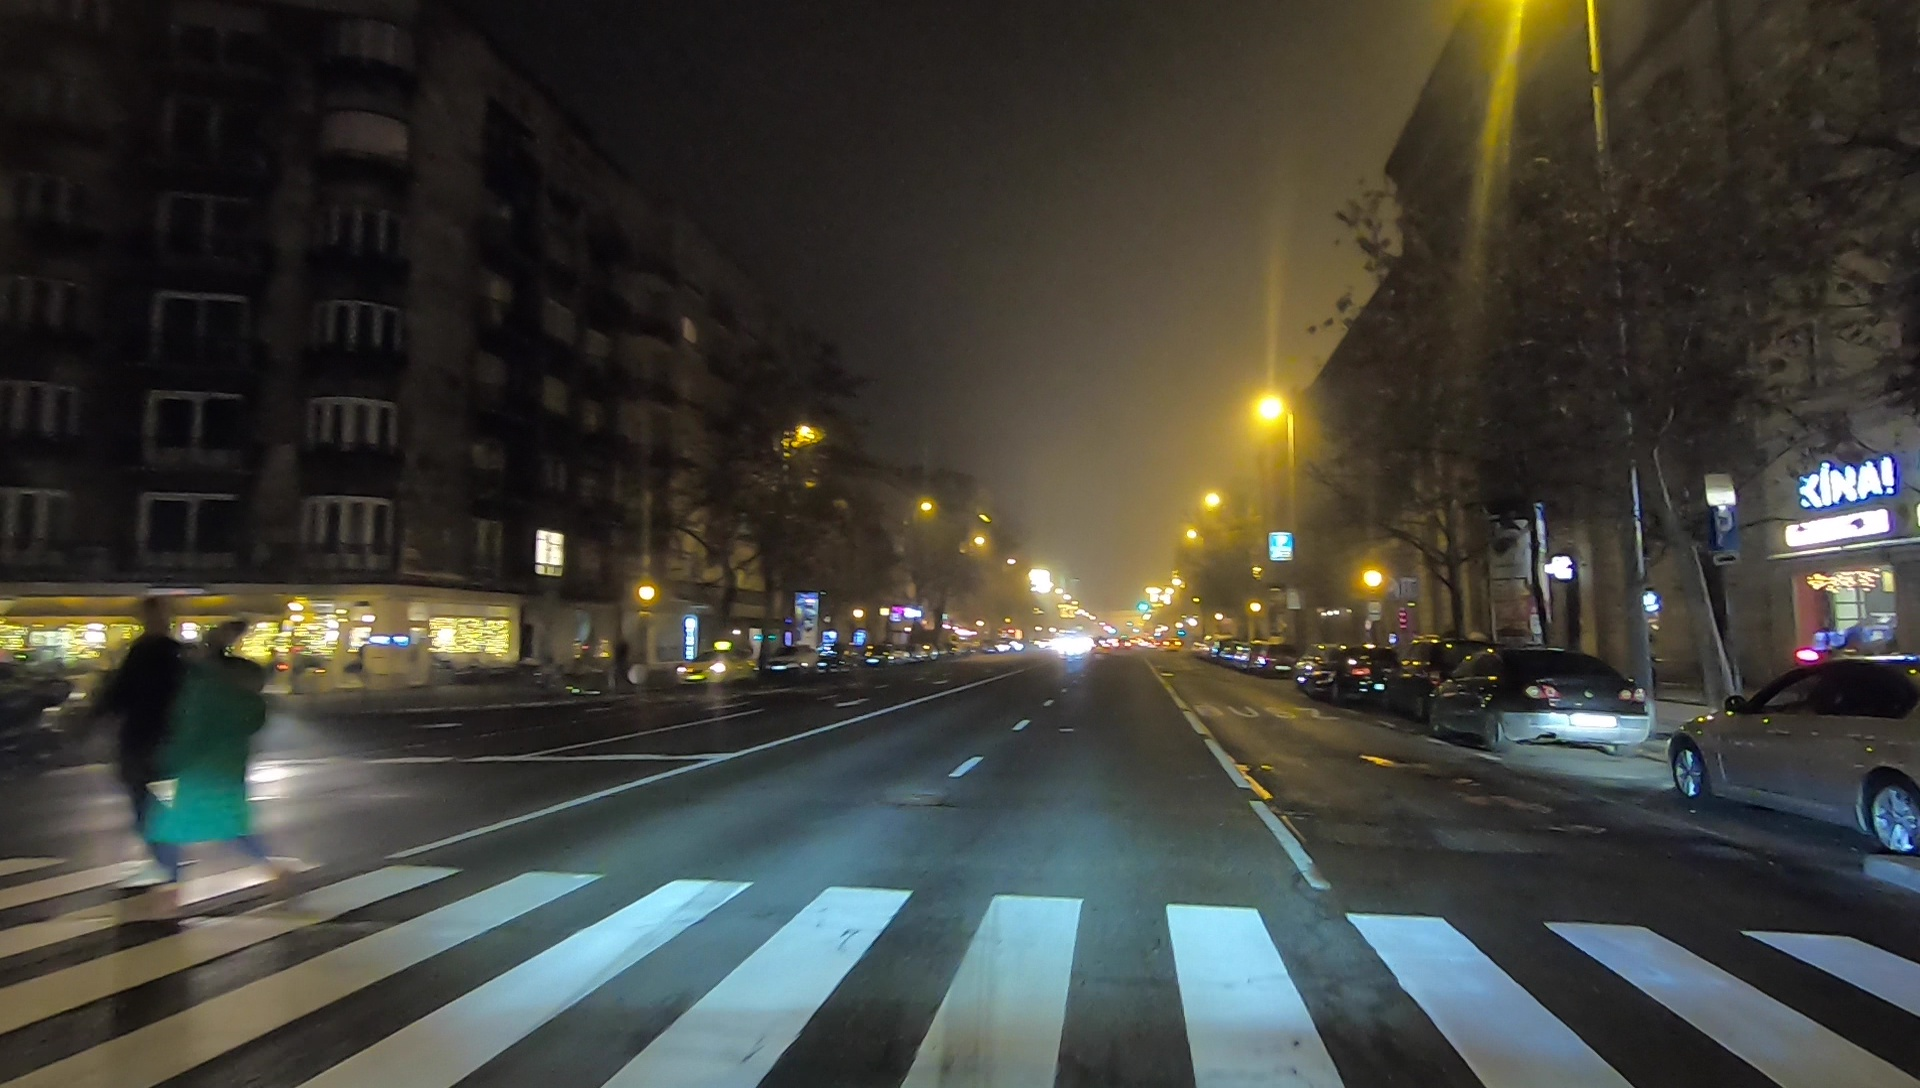person: (176, 630, 295, 930), (106, 593, 225, 884)
